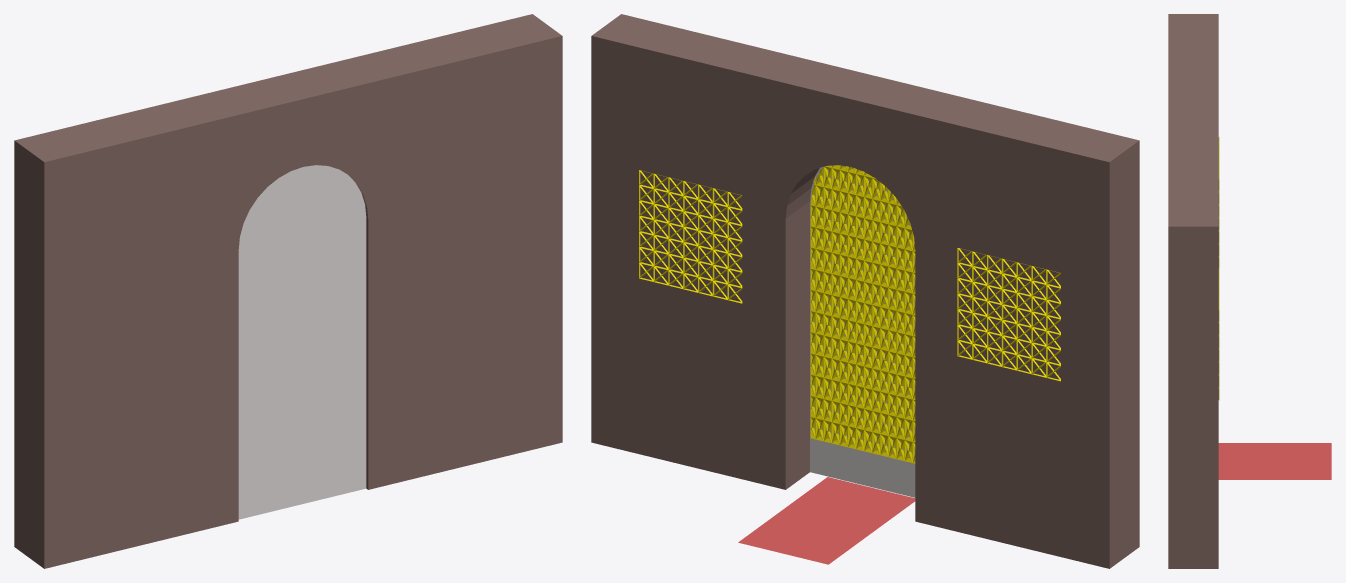
File: mihrabfix.glb
The picture shows the model from 3 angles, left to right: view 1: azimuth 30°, elevation 25°; view 2: azimuth 150°, elevation 25°; view 3: azimuth 270°, elevation 25°; orthographic projection. The views are drawn at different scales.
Visible parts, largest first — view 1: Plane; view 2: Plane; view 3: Plane.
Boxes of the visible parts, x1,y1,x2,y2 form: Plane: [14, 14, 562, 568]; Plane: [591, 14, 1139, 568]; Plane: [1168, 14, 1331, 568].
Bounding box in the file's own units: 4 × 3 × 1.3.
